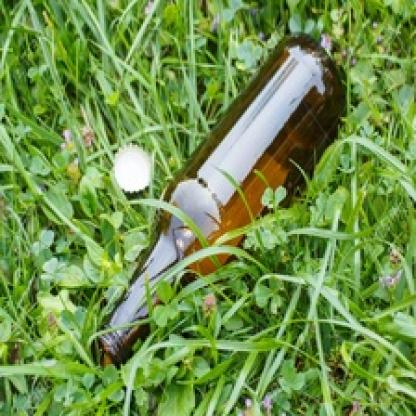Can: (94, 32, 342, 360)
